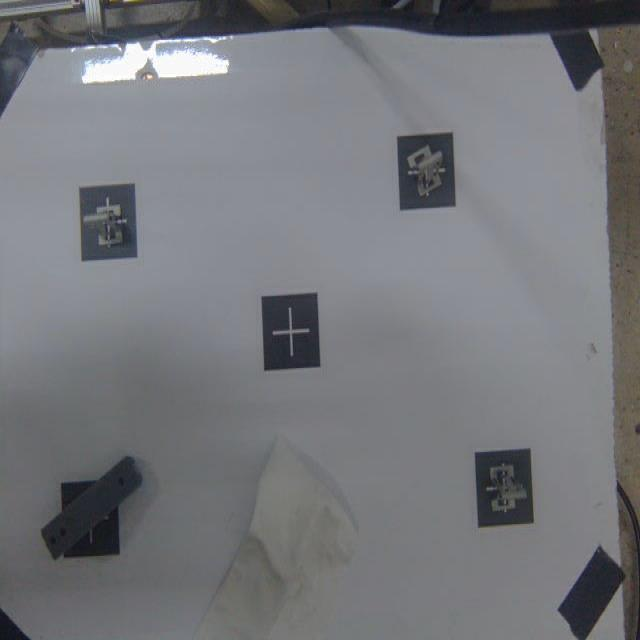pick1: (81, 187, 138, 259)
pick2: (398, 135, 456, 211)
pick5: (477, 450, 534, 527)
